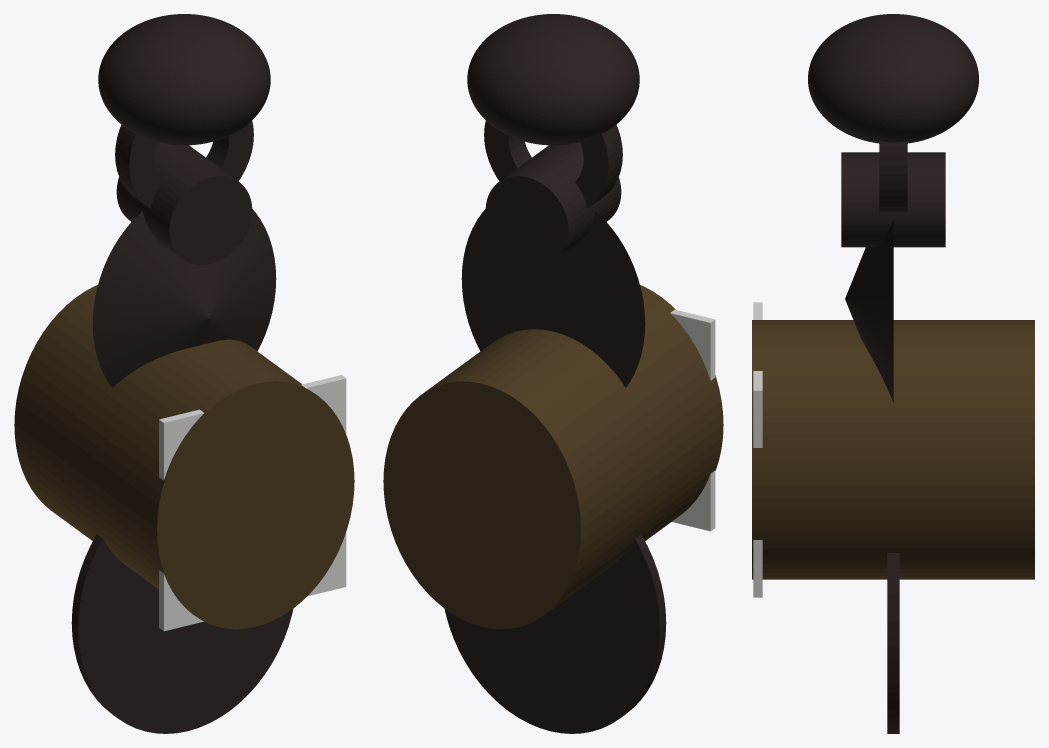
The model's file is perfume_bottle.glb.
The picture shows the model from 3 angles, left to right: view 1: azimuth 30°, elevation 25°; view 2: azimuth 150°, elevation 25°; view 3: azimuth 270°, elevation 25°; orthographic projection.
Visible parts, largest first — view 1: part_0, part_1, part_2, part_5, part_3, part_6, part_4; view 2: part_0, part_1, part_2, part_5, part_3, part_4, part_6; view 3: part_0, part_5, part_3, part_2, part_1, part_4, part_6.
Part boxes in pixels (x1,y1,x2,y2): part_0: (14, 285, 354, 629); part_1: (71, 534, 293, 733); part_2: (92, 209, 276, 387); part_5: (98, 14, 270, 145); part_3: (116, 142, 252, 264); part_6: (159, 375, 346, 631); part_4: (115, 120, 253, 208); part_0: (383, 285, 723, 629); part_1: (444, 534, 666, 733); part_2: (461, 209, 645, 387); part_5: (467, 14, 639, 145); part_3: (485, 142, 621, 264); part_4: (484, 120, 622, 208); part_6: (670, 309, 715, 531); part_0: (752, 320, 1034, 579); part_5: (808, 14, 978, 143); part_3: (841, 152, 945, 247); part_2: (845, 219, 893, 402); part_1: (887, 553, 899, 733); part_4: (879, 141, 907, 212); part_6: (753, 302, 762, 597).
Size of the model in its own units: 0.528 by 1.62 by 0.595.
